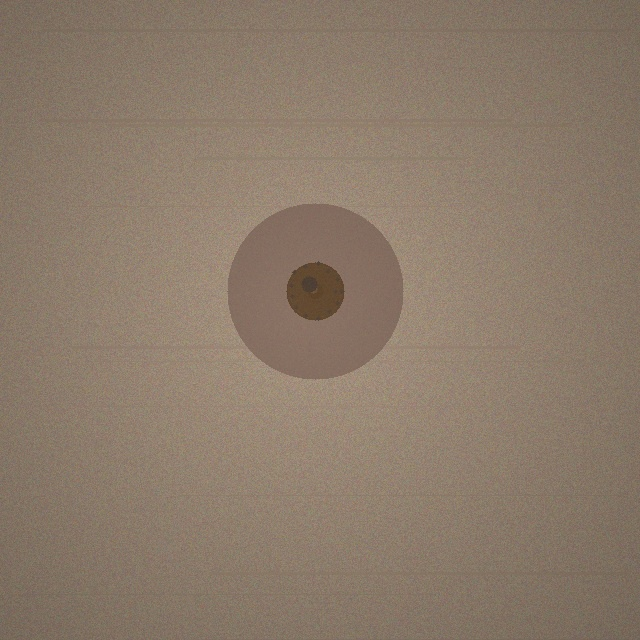cold_weld: (227, 203, 403, 379)
